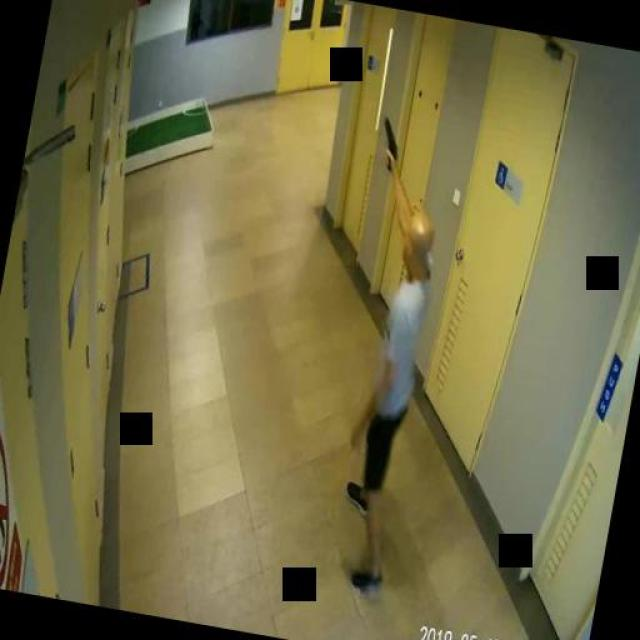gun: (374, 115, 401, 169)
